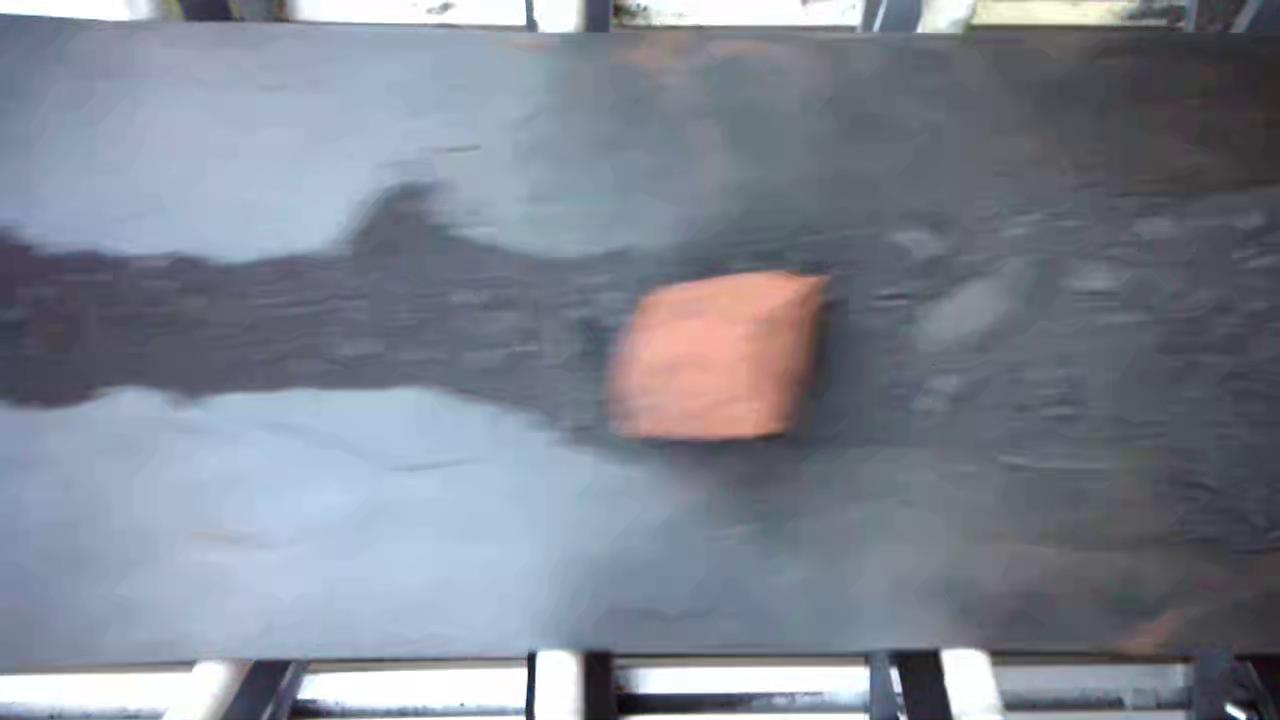conveyor: (4, 31, 1280, 648)
